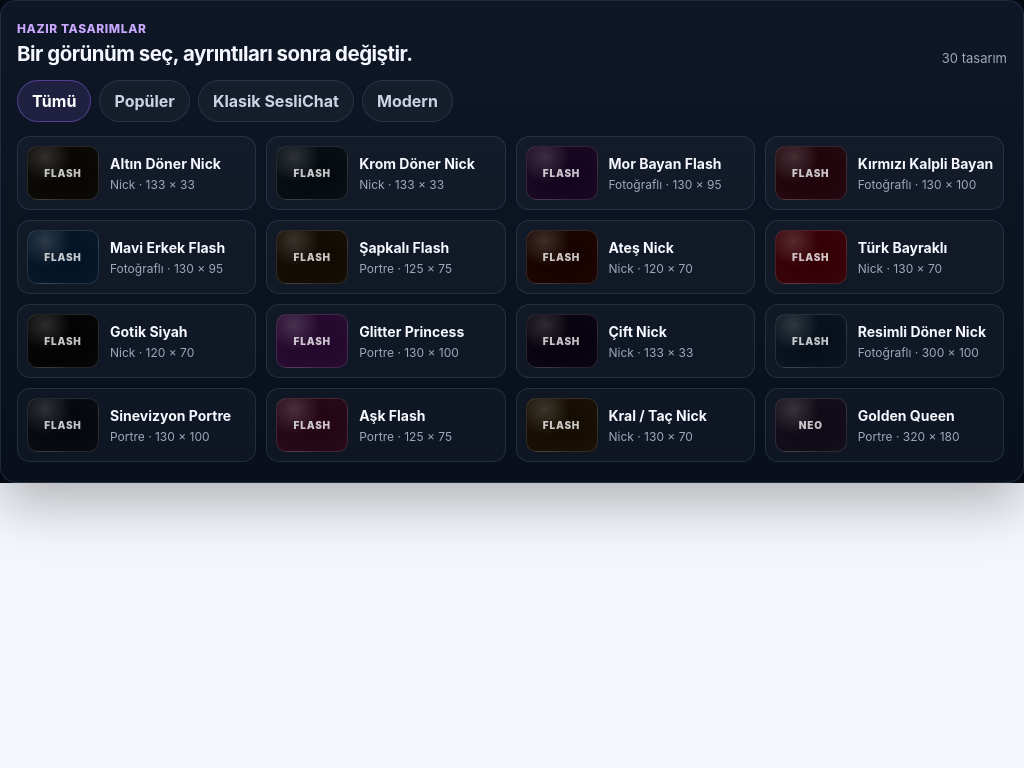
Test case: PresetLibrary › switches between real classic and modern recipe groups
This screenshot has width=1024, height=768.
What coordinates should you click on to do the following:
click the button "Klasik SesliChat"
I would click on:
 (276, 101)
Its box is [198, 80, 354, 122].
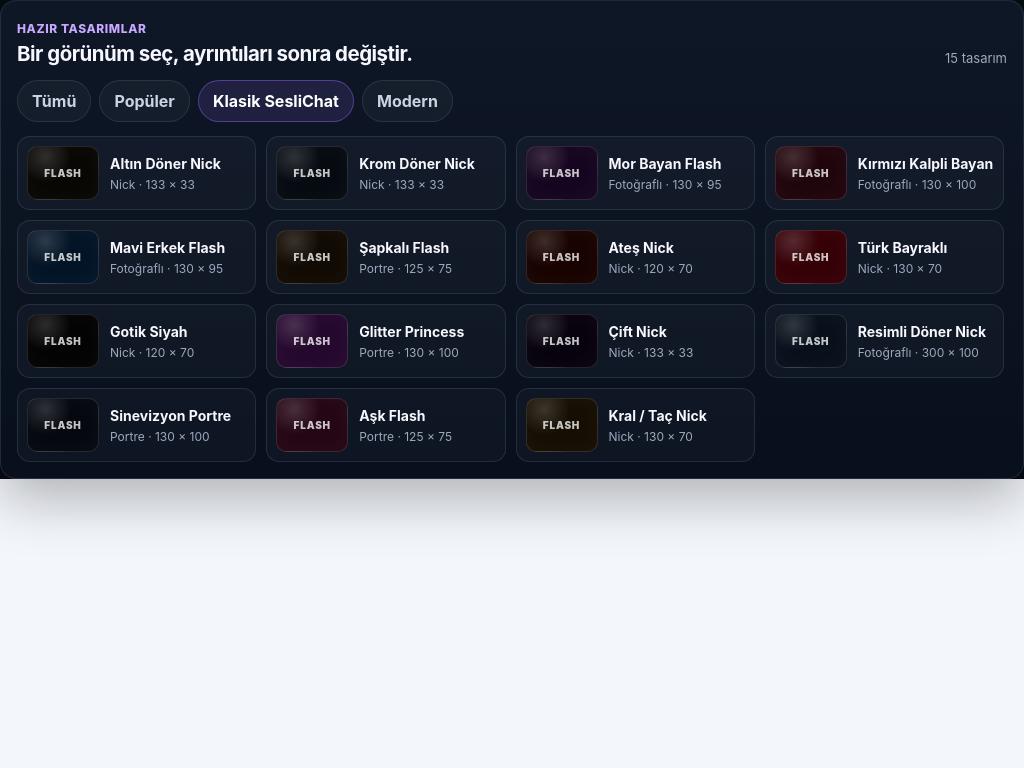
Expected: the button "FLASH Altın Döner Nick Nick · 133 × 33" is shown, [17, 136, 256, 210]
Expected: the button "Neon Night" is not shown
What coordinates should you click on to do the following:
click the button "Modern"
I would click on:
 (407, 101)
Its box is [362, 80, 453, 122].
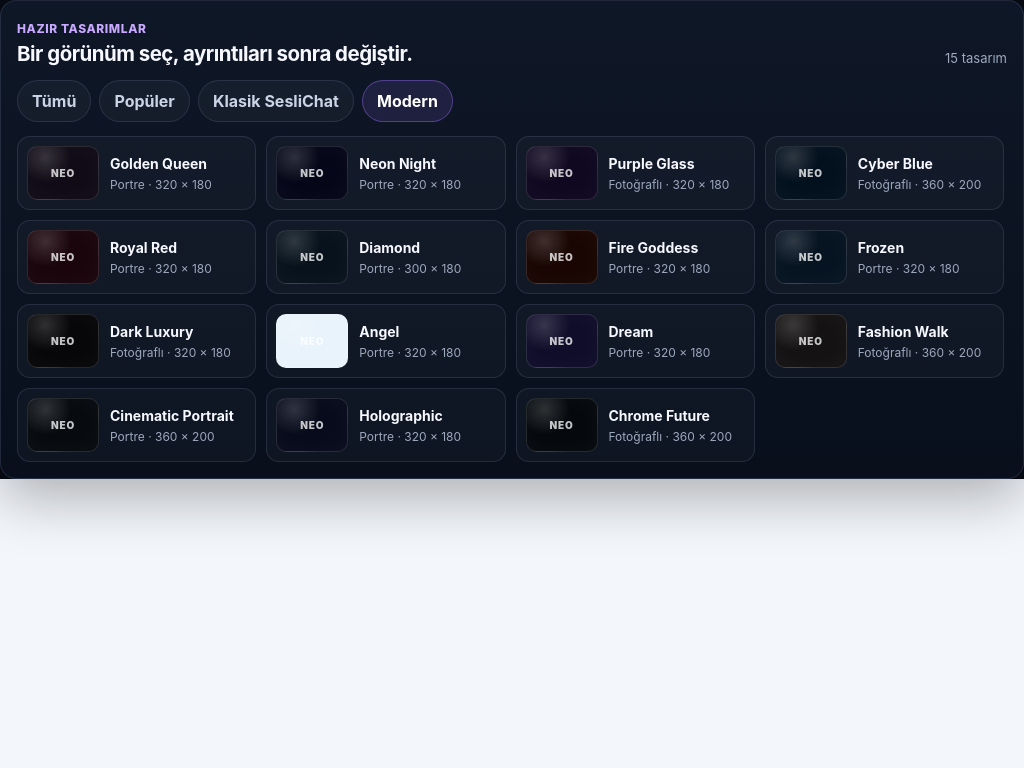
Now the button "NEO Neon Night Portre · 320 × 180" is shown, box [266, 136, 506, 210]
Now the button "Altın Döner Nick" is gone
